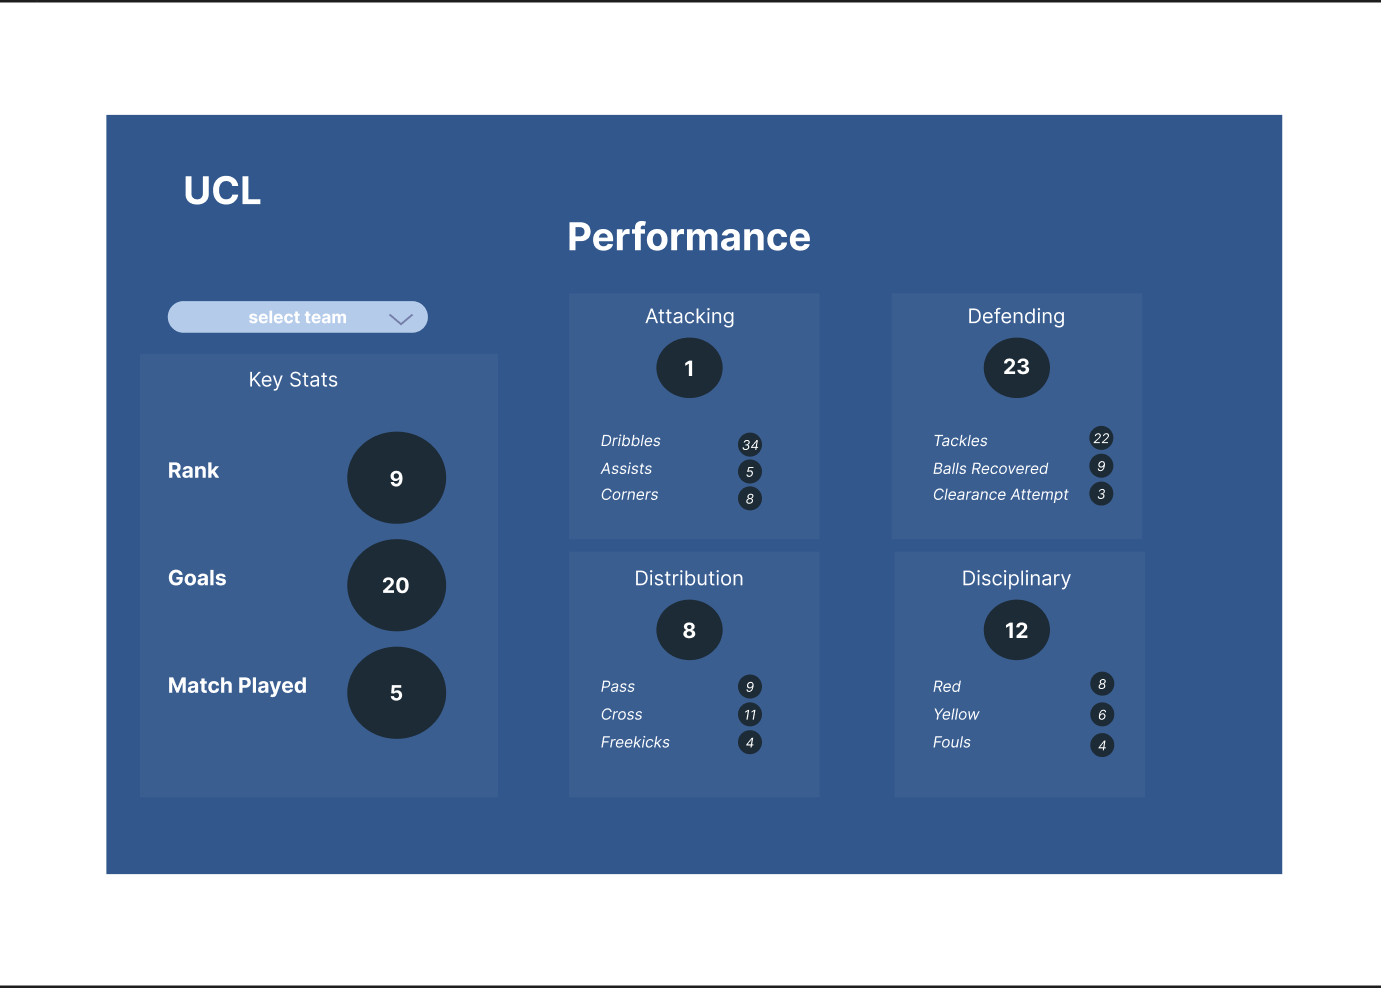

This screenshot's page, from the dashboard's own definition file:
{"tool":"powerbi","page":{"name":"Page 1","canvas":[1280,720],"ordinal":0},"visuals":[{"type":"shape","box":[481.1,160.7,242.8,243.7],"z":0,"group":"g1"},{"type":"shape","box":[886.4,160.7,242.8,243.7],"z":0,"group":"g4"},{"type":"shape","box":[51.5,336.7,283.4,334],"z":0},{"type":"shape","box":[481.1,427,242.8,243.7],"z":0,"group":"g2"},{"type":"shape","box":[886.4,427,242.8,243.7],"z":0,"group":"g3"},{"type":"textbox","box":[113.7,45.1,140.8,71.3],"z":1000},{"type":"textbox","box":[538.9,167.9,125.5,40.6],"z":1000,"group":"g1"},{"type":"textbox","box":[944.2,167.9,125.5,40.6],"z":1000,"group":"g4"},{"type":"textbox","box":[538.9,434.2,125.5,40.6],"z":1000,"group":"g2"},{"type":"textbox","box":[944.2,434.2,125.5,40.6],"z":1000,"group":"g3"},{"type":"textbox","box":[303.3,71.3,672.5,89.4],"z":2000},{"type":"shape","box":[573.2,201.3,57.8,55.1],"z":2000,"group":"g1"},{"type":"shape","box":[978.5,201.3,57.8,55.1],"z":2000,"group":"g4"},{"type":"shape","box":[573.2,467.6,57.8,55.1],"z":2000,"group":"g2"},{"type":"shape","box":[978.5,467.6,57.8,55.1],"z":2000,"group":"g3"},{"type":"card","fields":{"Values":["Sum(Table 4 (Attacking Rankings).Attacking Rank)"]},"box":[564.1,201.3,76.7,46.9],"z":3000,"group":"g1"},{"type":"card","fields":{"Values":["Sum(Table 4 (Defending Ranking).Defending Rank)"]},"box":[969.4,201.3,76.7,46.9],"z":3000,"group":"g4"},{"type":"textbox","box":[130,362.9,125.5,40.6],"z":3000},{"type":"card","fields":{"Values":["Sum(Table 4 (Distributon Ranking).Distribution Rank)"]},"box":[564.1,467.6,76.7,46.9],"z":3000,"group":"g2"},{"type":"card","fields":{"Values":["Sum(Table 4 (Disciplinary Ranking).Disciplinary Rank)"]},"box":[969.4,467.6,76.7,46.9],"z":3000,"group":"g3"},{"type":"slicer","fields":{"Values":["Table 3 (Key_stats Ranking).club"]},"box":[51.5,181.4,282.5,76.7],"z":4000},{"type":"textbox","box":[481.1,261.8,125.5,40.6],"z":4000,"group":"g1"},{"type":"textbox","box":[886.4,261.8,125.5,40.6],"z":4000,"group":"g4"},{"type":"textbox","box":[481.1,528.1,125.5,40.6],"z":4000,"group":"g2"},{"type":"textbox","box":[886.4,528.1,125.5,40.6],"z":4000,"group":"g3"},{"type":"group","id":"g1","title":"Group 1","box":[481.1,160.7,242.8,243.7],"z":5000},{"type":"textbox","box":[481.1,302.4,125.5,40.6],"z":5000,"group":"g1"},{"type":"textbox","box":[886.4,302.4,125.5,40.6],"z":5000,"group":"g4"},{"type":"textbox","box":[481.1,568.7,125.5,40.6],"z":5000,"group":"g2"},{"type":"textbox","box":[886.4,568.7,125.5,40.6],"z":5000,"group":"g3"},{"type":"textbox","box":[481.1,343,125.5,40.6],"z":6000,"group":"g1"},{"type":"textbox","box":[886.4,343,125.5,40.6],"z":6000,"group":"g4"},{"type":"group","id":"g2","title":"Group 1","box":[481.1,427,242.8,243.7],"z":6000},{"type":"textbox","box":[481.1,609.3,125.5,40.6],"z":6000,"group":"g2"},{"type":"textbox","box":[886.4,609.3,125.5,40.6],"z":6000,"group":"g3"},{"type":"shape","box":[656.2,258.2,37.9,37],"z":7000,"group":"g1"},{"type":"shape","box":[1061.5,258.2,37.9,37],"z":7000,"group":"g4"},{"type":"group","id":"g3","title":"Group 1","box":[886.4,427,242.8,243.7],"z":7000},{"type":"shape","box":[656.2,524.5,37.9,37],"z":7000,"group":"g2"},{"type":"shape","box":[1061.5,524.5,37.9,37],"z":7000,"group":"g3"},{"type":"shape","box":[656.2,299.7,37.9,37],"z":8000,"group":"g1"},{"type":"shape","box":[1061.5,299.7,37.9,37],"z":8000,"group":"g4"},{"type":"shape","box":[245.5,440.5,57.8,55.1],"z":8000},{"type":"shape","box":[656.2,566,37.9,37],"z":8000,"group":"g2"},{"type":"shape","box":[1061.5,566,37.9,37],"z":8000,"group":"g3"},{"type":"shape","box":[656.2,341.2,37.9,37],"z":9000,"group":"g1"},{"type":"shape","box":[1061.5,341.2,37.9,37],"z":9000,"group":"g4"},{"type":"shape","box":[245.5,534.4,57.8,55.1],"z":9000},{"type":"shape","box":[656.2,607.5,37.9,37],"z":9000,"group":"g2"},{"type":"shape","box":[1061.5,607.5,37.9,37],"z":9000,"group":"g3"},{"type":"card","fields":{"Values":["Sum(Table 4 (Attacking Rankings).Sum of dribbles)"]},"box":[647.2,261.8,56,29.8],"z":10000,"group":"g1"},{"type":"card","fields":{"Values":["Sum(Table 4 (Defending Ranking).Sum of tackles)"]},"box":[1052.5,261.8,56,29.8],"z":10000,"group":"g4"},{"type":"card","fields":{"Values":["Sum(Table 3 (Key_stats Ranking).RANK)"]},"box":[235.6,440.5,76.7,46.9],"z":10000},{"type":"card","fields":{"Values":["Sum(Table 4 (Distributon Ranking).Sum of pass_completed)"]},"box":[647.2,528.1,56,29.8],"z":10000,"group":"g2"},{"type":"card","fields":{"Values":["Sum(Table 4 (Disciplinary Ranking).Sum of red)"]},"box":[1052.5,528.1,56,29.8],"z":10000,"group":"g3"},{"type":"card","fields":{"Values":["Sum(Table 4 (Attacking Rankings).Sum of assists)"]},"box":[647.2,303.3,56,29.8],"z":11000,"group":"g1"},{"type":"card","fields":{"Values":["Sum(Table 4 (Defending Ranking).Sum of balls_recoverd)"]},"box":[1052.5,303.3,56,29.8],"z":11000,"group":"g4"},{"type":"card","fields":{"Values":["Sum(Table 3 (Key_stats Ranking).Sum of goals)"]},"box":[235.6,534.4,76.7,46.9],"z":11000},{"type":"card","fields":{"Values":["Sum(Table 4 (Distributon Ranking).Sum of cross_complted)"]},"box":[647.2,569.6,56,29.8],"z":11000,"group":"g2"},{"type":"card","fields":{"Values":["Sum(Table 4 (Disciplinary Ranking).Sum of yellow)"]},"box":[1052.5,569.6,56,29.8],"z":11000,"group":"g3"},{"type":"card","fields":{"Values":["Sum(Table 4 (Attacking Rankings).Sum of corner_taken)"]},"box":[647.2,344.8,56,29.8],"z":12000,"group":"g1"},{"type":"card","fields":{"Values":["Sum(Table 4 (Defending Ranking).Sum of clearance_attempted)"]},"box":[1052.5,344.8,56,29.8],"z":12000,"group":"g4"},{"type":"textbox","box":[66.8,455,125.5,40.6],"z":12000},{"type":"card","fields":{"Values":["Sum(Table 4 (Distributon Ranking).Sum of freekicks_taken)"]},"box":[647.2,611.1,56,29.8],"z":12000,"group":"g2"},{"type":"card","fields":{"Values":["Sum(Table 4 (Disciplinary Ranking).Sum of fouls_committed)"]},"box":[1052.5,611.1,56,29.8],"z":12000,"group":"g3"},{"type":"textbox","box":[66.8,548.8,125.5,40.6],"z":13000},{"type":"group","id":"g4","title":"Group 1","box":[886.4,160.7,242.8,243.7],"z":14000}]}

Visuals, with their boxes on the page's 1280x720 design canvas (x1, y1, x2, y2). These are canvas units, not pixel positions in the 1381x988 screenshot, which may show the page scaled, cropped or inside an application window:
shape: <bbox>481, 161, 724, 404</bbox>
shape: <bbox>886, 161, 1129, 404</bbox>
shape: <bbox>52, 337, 335, 671</bbox>
shape: <bbox>481, 427, 724, 671</bbox>
shape: <bbox>886, 427, 1129, 671</bbox>
textbox: <bbox>114, 45, 254, 116</bbox>
textbox: <bbox>539, 168, 664, 208</bbox>
textbox: <bbox>944, 168, 1070, 208</bbox>
textbox: <bbox>539, 434, 664, 475</bbox>
textbox: <bbox>944, 434, 1070, 475</bbox>
textbox: <bbox>303, 71, 976, 161</bbox>
shape: <bbox>573, 201, 631, 256</bbox>
shape: <bbox>978, 201, 1036, 256</bbox>
shape: <bbox>573, 468, 631, 523</bbox>
shape: <bbox>978, 468, 1036, 523</bbox>
card - Sum(Table 4 (Attacking Rankings).Attacking Rank): <bbox>564, 201, 641, 248</bbox>
card - Sum(Table 4 (Defending Ranking).Defending Rank): <bbox>969, 201, 1046, 248</bbox>
textbox: <bbox>130, 363, 256, 404</bbox>
card - Sum(Table 4 (Distributon Ranking).Distribution Rank): <bbox>564, 468, 641, 514</bbox>
card - Sum(Table 4 (Disciplinary Ranking).Disciplinary Rank): <bbox>969, 468, 1046, 514</bbox>
slicer - Table 3 (Key_stats Ranking).club: <bbox>52, 181, 334, 258</bbox>
textbox: <bbox>481, 262, 607, 302</bbox>
textbox: <bbox>886, 262, 1012, 302</bbox>
textbox: <bbox>481, 528, 607, 569</bbox>
textbox: <bbox>886, 528, 1012, 569</bbox>
"Group 1" group: <bbox>481, 161, 724, 404</bbox>
textbox: <bbox>481, 302, 607, 343</bbox>
textbox: <bbox>886, 302, 1012, 343</bbox>
textbox: <bbox>481, 569, 607, 609</bbox>
textbox: <bbox>886, 569, 1012, 609</bbox>
textbox: <bbox>481, 343, 607, 384</bbox>
textbox: <bbox>886, 343, 1012, 384</bbox>
"Group 1" group: <bbox>481, 427, 724, 671</bbox>
textbox: <bbox>481, 609, 607, 650</bbox>
textbox: <bbox>886, 609, 1012, 650</bbox>
shape: <bbox>656, 258, 694, 295</bbox>
shape: <bbox>1062, 258, 1099, 295</bbox>
"Group 1" group: <bbox>886, 427, 1129, 671</bbox>
shape: <bbox>656, 524, 694, 562</bbox>
shape: <bbox>1062, 524, 1099, 562</bbox>
shape: <bbox>656, 300, 694, 337</bbox>
shape: <bbox>1062, 300, 1099, 337</bbox>
shape: <bbox>246, 440, 303, 496</bbox>
shape: <bbox>656, 566, 694, 603</bbox>
shape: <bbox>1062, 566, 1099, 603</bbox>
shape: <bbox>656, 341, 694, 378</bbox>
shape: <bbox>1062, 341, 1099, 378</bbox>
shape: <bbox>246, 534, 303, 590</bbox>
shape: <bbox>656, 608, 694, 644</bbox>
shape: <bbox>1062, 608, 1099, 644</bbox>
card - Sum(Table 4 (Attacking Rankings).Sum of dribbles): <bbox>647, 262, 703, 292</bbox>
card - Sum(Table 4 (Defending Ranking).Sum of tackles): <bbox>1052, 262, 1108, 292</bbox>
card - Sum(Table 3 (Key_stats Ranking).RANK): <bbox>236, 440, 312, 487</bbox>
card - Sum(Table 4 (Distributon Ranking).Sum of pass_completed): <bbox>647, 528, 703, 558</bbox>
card - Sum(Table 4 (Disciplinary Ranking).Sum of red): <bbox>1052, 528, 1108, 558</bbox>
card - Sum(Table 4 (Attacking Rankings).Sum of assists): <bbox>647, 303, 703, 333</bbox>
card - Sum(Table 4 (Defending Ranking).Sum of balls_recoverd): <bbox>1052, 303, 1108, 333</bbox>
card - Sum(Table 3 (Key_stats Ranking).Sum of goals): <bbox>236, 534, 312, 581</bbox>
card - Sum(Table 4 (Distributon Ranking).Sum of cross_complted): <bbox>647, 570, 703, 599</bbox>
card - Sum(Table 4 (Disciplinary Ranking).Sum of yellow): <bbox>1052, 570, 1108, 599</bbox>
card - Sum(Table 4 (Attacking Rankings).Sum of corner_taken): <bbox>647, 345, 703, 375</bbox>
card - Sum(Table 4 (Defending Ranking).Sum of clearance_attempted): <bbox>1052, 345, 1108, 375</bbox>
textbox: <bbox>67, 455, 192, 496</bbox>
card - Sum(Table 4 (Distributon Ranking).Sum of freekicks_taken): <bbox>647, 611, 703, 641</bbox>
card - Sum(Table 4 (Disciplinary Ranking).Sum of fouls_committed): <bbox>1052, 611, 1108, 641</bbox>
textbox: <bbox>67, 549, 192, 589</bbox>
"Group 1" group: <bbox>886, 161, 1129, 404</bbox>
